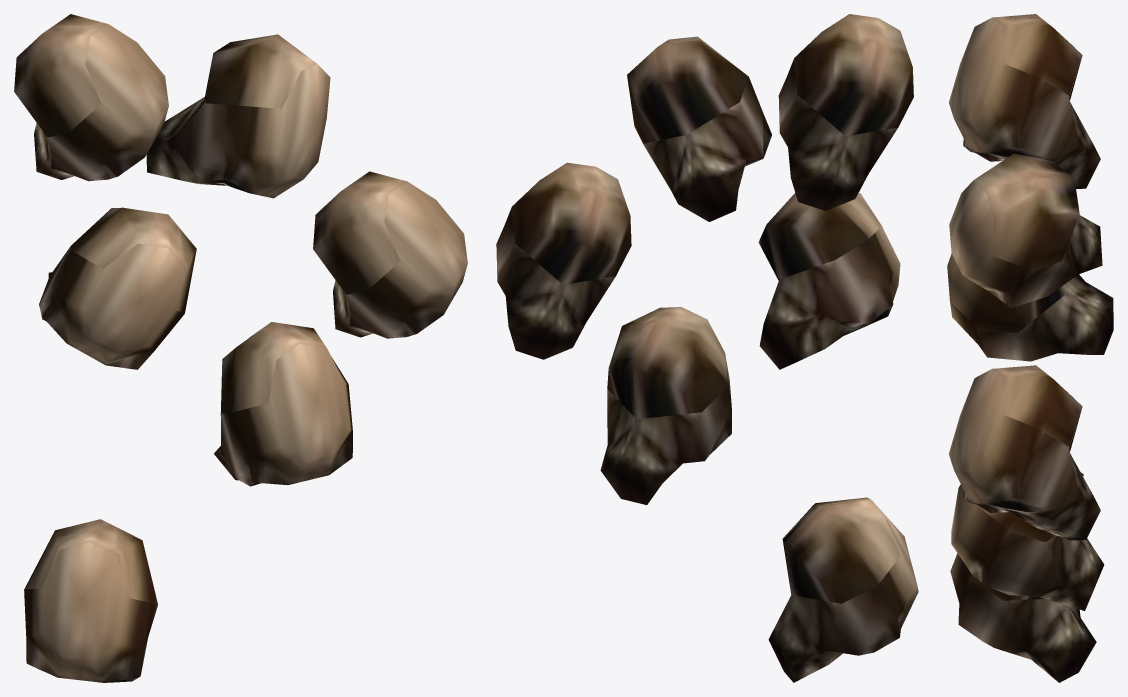
The picture shows the model from 3 angles, left to right: view 1: azimuth 30°, elevation 25°; view 2: azimuth 150°, elevation 25°; view 3: azimuth 270°, elevation 25°; orthographic projection. The views are drawn at different scales.
Visible parts, largest first — view 1: model_Object47; view 2: model_Object47; view 3: model_Object47.
Part boxes in pixels (x1,y1,x2,y2): model_Object47: [14, 14, 467, 682]; model_Object47: [496, 14, 918, 682]; model_Object47: [947, 14, 1113, 682].
Size of the model in its own units: 0.7157 by 1.07 by 0.2529.
Materials: 1 (1 with a texture image).
